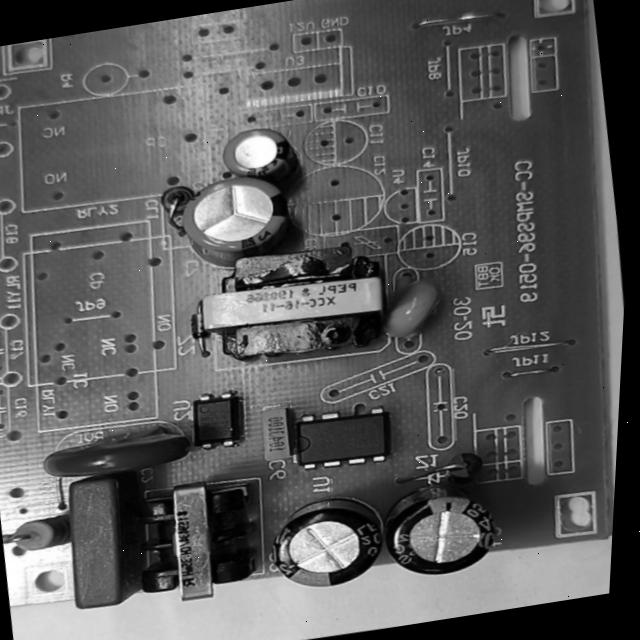Cap1: (166, 168, 322, 280)
Cap2: (207, 118, 303, 193)
Cap3: (251, 485, 400, 604)
Cap4: (372, 473, 516, 588)
MOSFET: (278, 396, 411, 480)
Mov: (23, 412, 207, 492)
Resistor: (0, 510, 76, 565)
Transformer: (183, 228, 412, 379), (119, 466, 283, 620)
